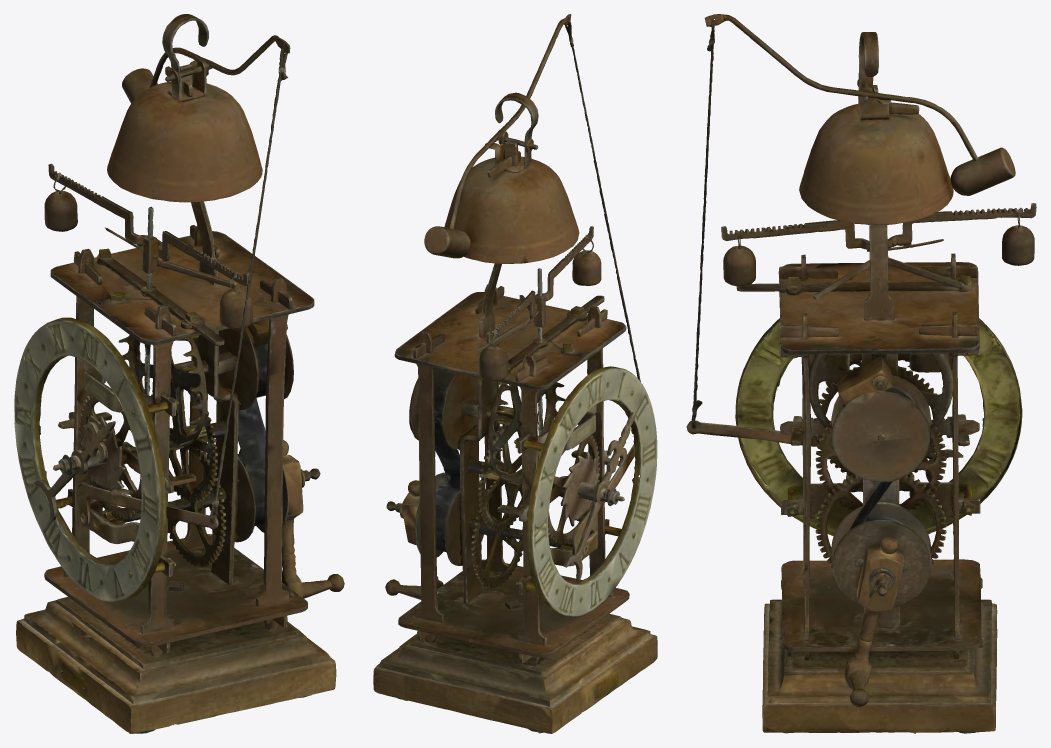
Rendered from clock.glb.
3 renders of one model, left to right at view 1: azimuth 30°, elevation 25°; view 2: azimuth 150°, elevation 25°; view 3: azimuth 270°, elevation 25°, orthographic. The views are drawn at different scales.
Parts seen in each view (by area): view 1: static, verge, dial, crown, great, hammer, second; view 2: static, dial, verge, crown, hammer, great, second; view 3: static, verge, great, crown, hammer, second, dial.
Part boxes in pixels (x1=…): static: x1=14, y1=14, x2=344, y2=733; verge: x1=44, y1=163, x2=252, y2=395; dial: x1=34, y1=394, x2=141, y2=521; crown: x1=118, y1=335, x2=208, y2=450; great: x1=102, y1=449, x2=226, y2=567; hammer: x1=122, y1=48, x2=202, y2=103; second: x1=130, y1=387, x2=217, y2=502; static: x1=373, y1=14, x2=657, y2=733; dial: x1=548, y1=414, x2=635, y2=581; verge: x1=476, y1=226, x2=601, y2=458; crown: x1=488, y1=382, x2=565, y2=484; hammer: x1=424, y1=136, x2=499, y2=258; great: x1=471, y1=480, x2=571, y2=587; second: x1=478, y1=424, x2=554, y2=531; static: x1=686, y1=14, x2=1022, y2=733; verge: x1=721, y1=203, x2=1036, y2=288; great: x1=815, y1=475, x2=946, y2=568; crown: x1=808, y1=353, x2=953, y2=427; hammer: x1=893, y1=97, x2=1015, y2=195; second: x1=815, y1=420, x2=946, y2=511; dial: x1=814, y1=360, x2=962, y2=481.
Size of the model in its own units: 14.08 by 33.35 by 15.39.
1 material, 1 textured.
